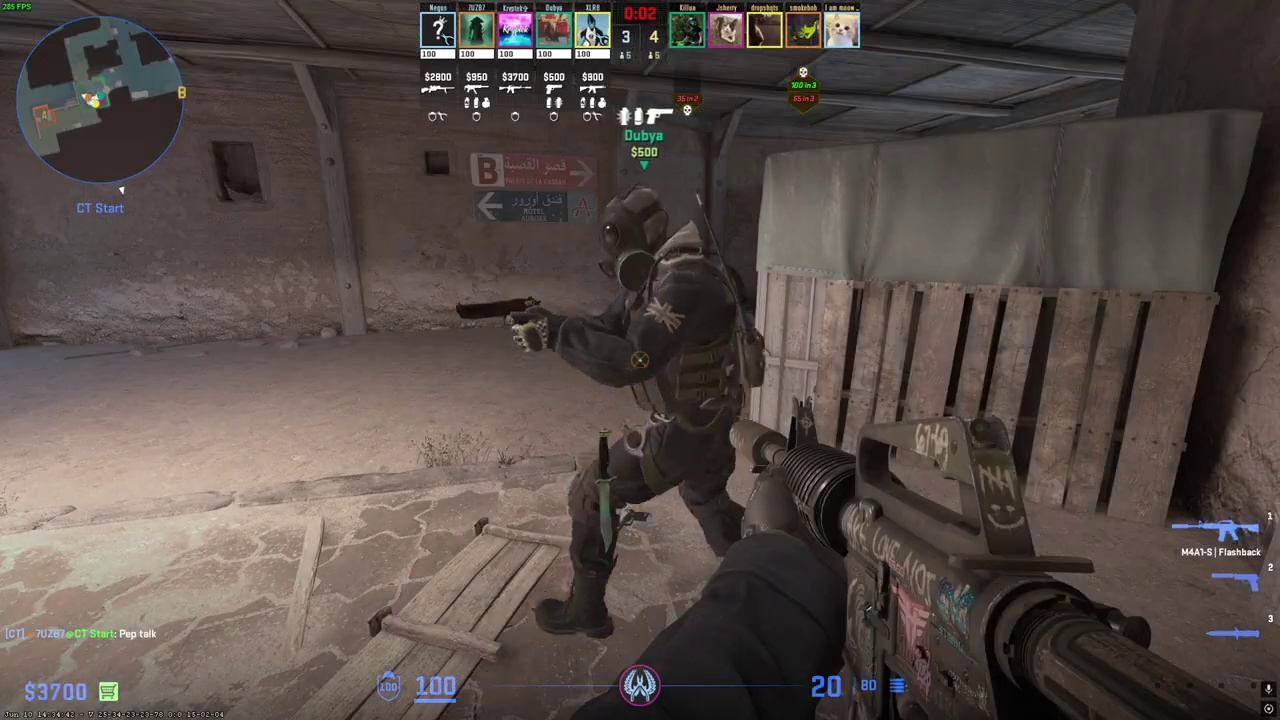CT: (552, 185, 747, 639)
